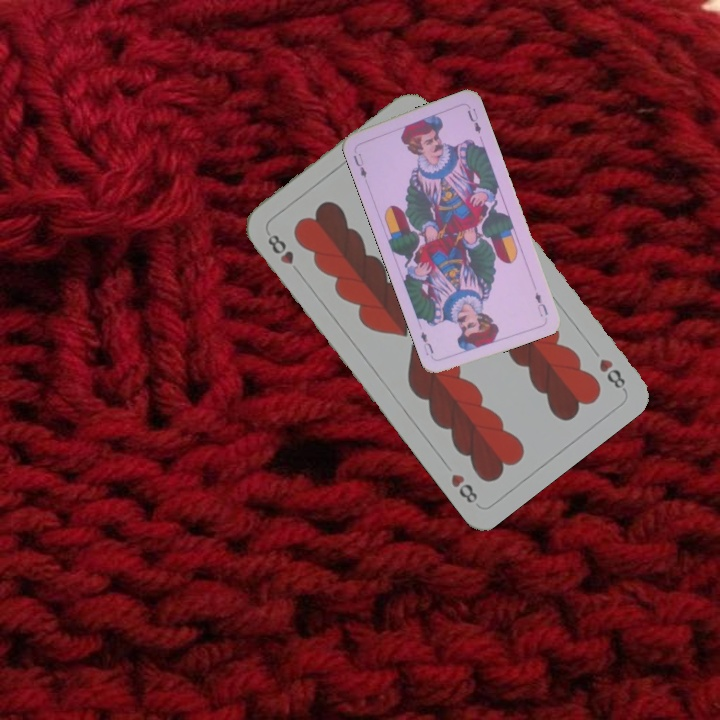EU: (531, 288, 551, 320), (349, 149, 369, 180)
H8: (263, 227, 304, 278), (595, 354, 629, 393)
